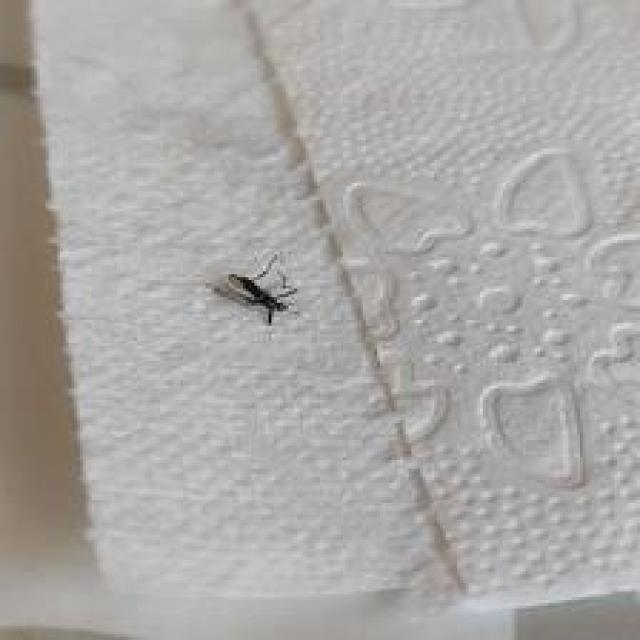Aedes albopictus: (209, 253, 297, 327)
